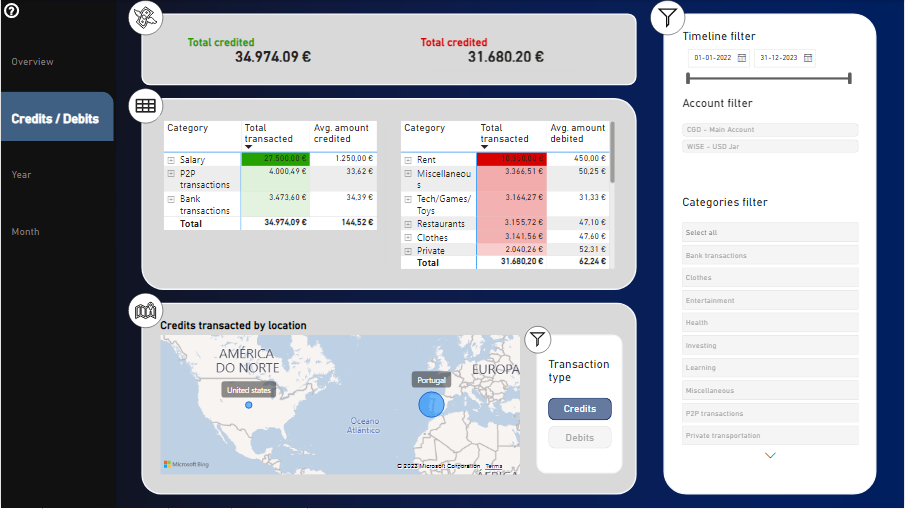

The dashboard page shown, as its layout file describes it:
{"tool":"powerbi","page":{"name":"Credits / Debits","canvas":[1280,720],"ordinal":1},"visuals":[{"type":"pivotTable","fields":{"Rows":["Categories.Category","Stores.Store"],"Values":["Sum(Credits.Transaction)","Credits.Average Amount Credited"]},"box":[220,160,325,230],"z":0},{"type":"advancedSlicerVisual","title":"Categories filter","fields":{"Values":["Categories.Category"]},"box":[960,275,260,385],"z":1000},{"type":"pivotTable","fields":{"Rows":["Categories.Category","Stores.Store"],"Values":["Sum(Debits.Transaction)","Debits.Average Amount Debited"]},"box":[555,160,325,230],"z":2000},{"type":"card","title":"Total credited","fields":{"Values":["Credits.Total Credited"]},"box":[250,40,270,60],"z":3000},{"type":"map","fields":{"Category":["Locations.Location Hierarchy.Region","Locations.Location Hierarchy.Country","Locations.Location Hierarchy.City"],"Size":["Locations._map_values"]},"box":[220,450,520,230],"z":4000},{"type":"advancedSlicerVisual","fields":{"Values":["Transaction type.Transaction type"]},"box":[770,504.8,100.2,155.6],"z":5000},{"type":"pageNavigator","box":[0,30,160,350],"z":6000},{"type":"actionButton","title":"Information button","box":[0,0,30,30],"z":7000},{"type":"slicer","title":"Timeline filter","fields":{"Values":["Calendar.Date"]},"box":[960,40,260,85],"z":8000},{"type":"card","title":"Total credited","fields":{"Values":["Debits.Total Debited"]},"box":[580,40.4,270.4,60],"z":9000},{"type":"advancedSlicerVisual","title":"Account filter","fields":{"Values":["Accounts.Account_full_name"]},"box":[960,135,260,130],"z":10000}]}

Visuals, with their boxes on the page's 1280x720 design canvas (x1, y1, x2, y2). These are canvas units, not pixel positions in the 905x509 screenshot, which may show the page scaled, cropped or inside an application window:
pivotTable - Categories.Category x Stores.Store: [x1=220, y1=160, x2=545, y2=390]
"Categories filter" advancedSlicerVisual: [x1=960, y1=275, x2=1220, y2=660]
pivotTable - Categories.Category x Stores.Store: [x1=555, y1=160, x2=880, y2=390]
"Total credited" card: [x1=250, y1=40, x2=520, y2=100]
map - Locations.Location Hierarchy.Region x Locations.Location Hierarchy.Country: [x1=220, y1=450, x2=740, y2=680]
advancedSlicerVisual - Transaction type.Transaction type: [x1=770, y1=505, x2=870, y2=660]
pageNavigator: [x1=0, y1=30, x2=160, y2=380]
"Information button" actionButton: [x1=0, y1=0, x2=30, y2=30]
"Timeline filter" slicer: [x1=960, y1=40, x2=1220, y2=125]
"Total credited" card: [x1=580, y1=40, x2=850, y2=100]
"Account filter" advancedSlicerVisual: [x1=960, y1=135, x2=1220, y2=265]
